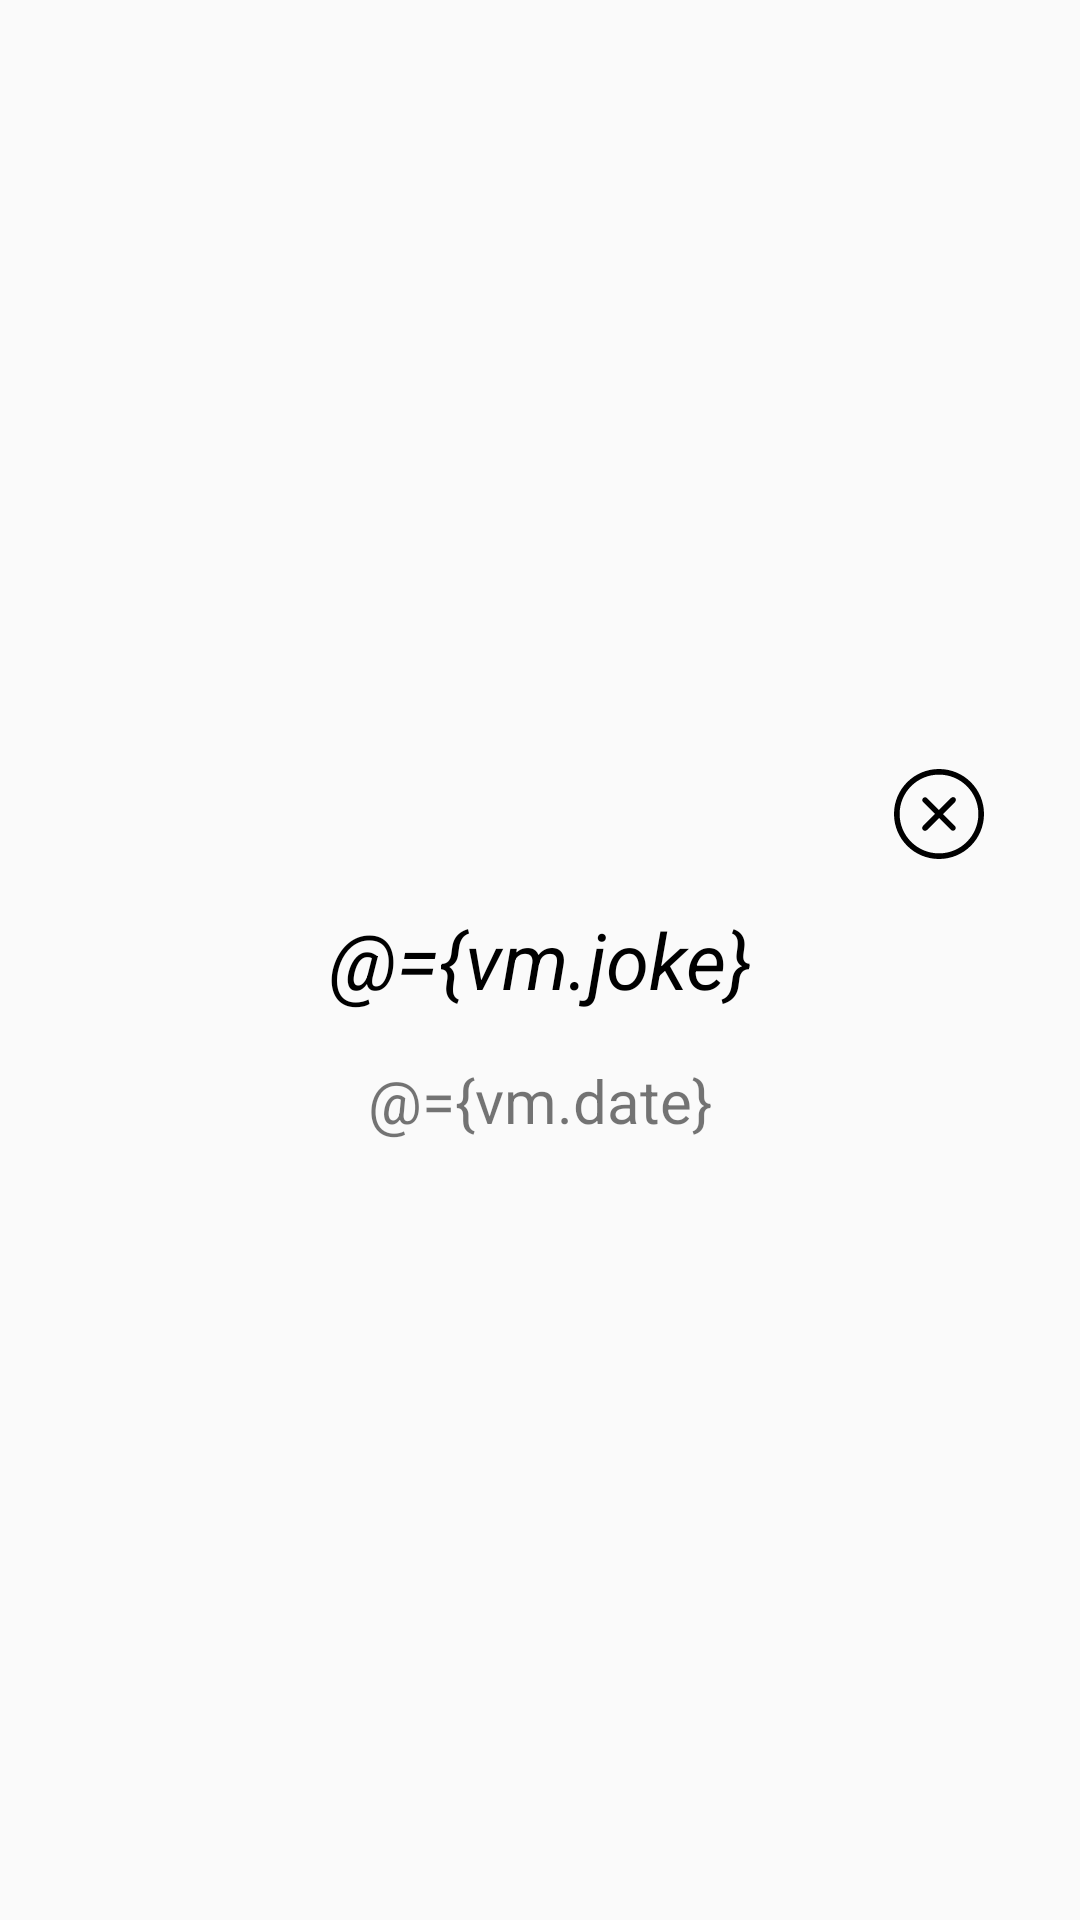

Point at icon controls on the screen. Image size 1080w x 1920h, points as point (x, y).
close: point (939, 814)
